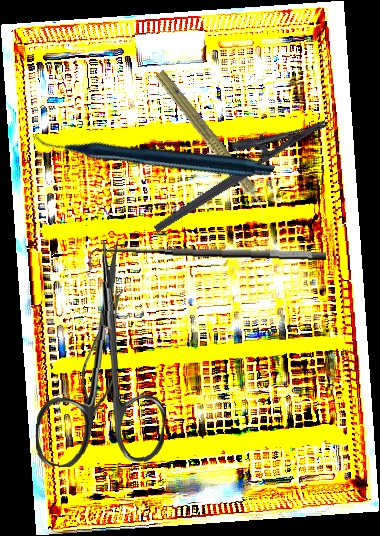Handpiece: (33, 32, 276, 272), (148, 67, 278, 223)
Hook Surgical: (88, 239, 327, 280)
Iris Scissors: (35, 237, 171, 471)
Micro Scissor: (81, 286, 123, 417)
Needle Holder: (137, 94, 330, 235)
